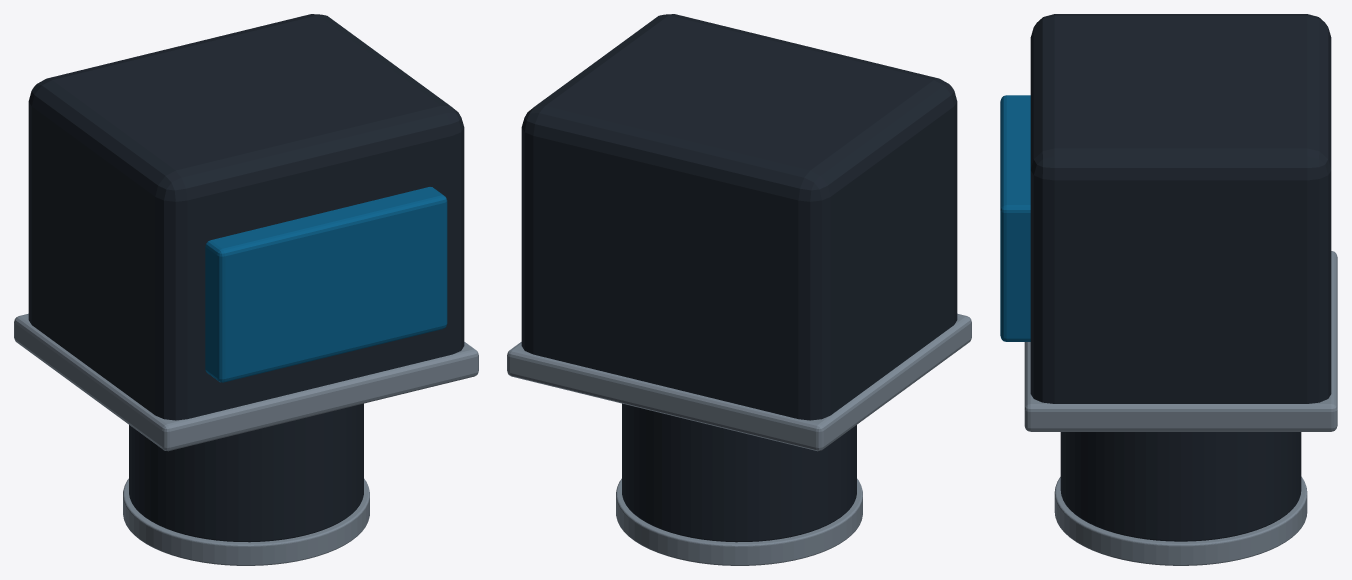
Rendered from camera.obj.
The picture shows the model from 3 angles, left to right: view 1: azimuth 30°, elevation 25°; view 2: azimuth 150°, elevation 25°; view 3: azimuth 270°, elevation 25°; orthographic projection. The views are drawn at different scales.
Parts seen in each view (by area): view 1: camera; view 2: camera; view 3: camera.
Part boxes in pixels (x1,y1,x2,y2): camera: (14,14,478,565); camera: (507,14,971,565); camera: (1000,14,1337,565).
Size of the model in its own units: 0.062 by 0.081 by 0.056.
